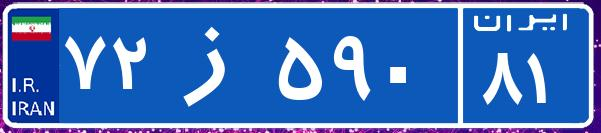0: (385, 28, 445, 110)
1: (525, 38, 570, 115)
2: (110, 28, 158, 105)
5: (273, 28, 330, 110)
7: (57, 26, 110, 107)
8: (475, 38, 525, 113)
9: (330, 28, 385, 110)
ز: (158, 15, 273, 115)
